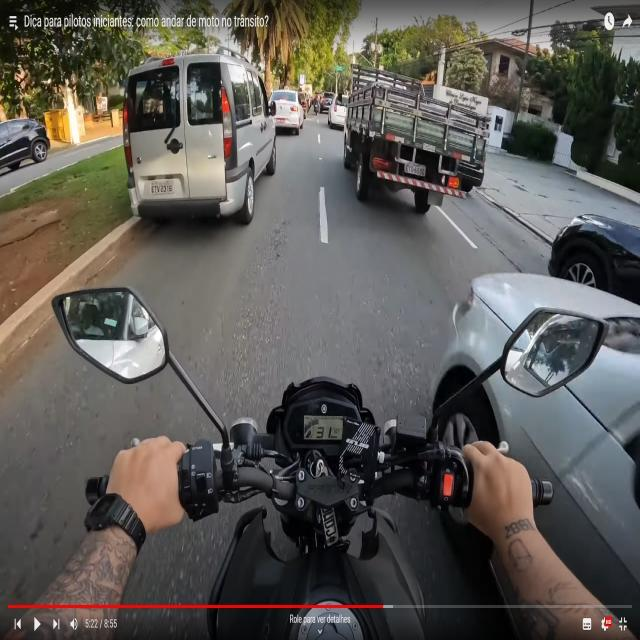Placa_mercosul_carro: (403, 161, 426, 177), (151, 182, 174, 193), (276, 117, 287, 124)
